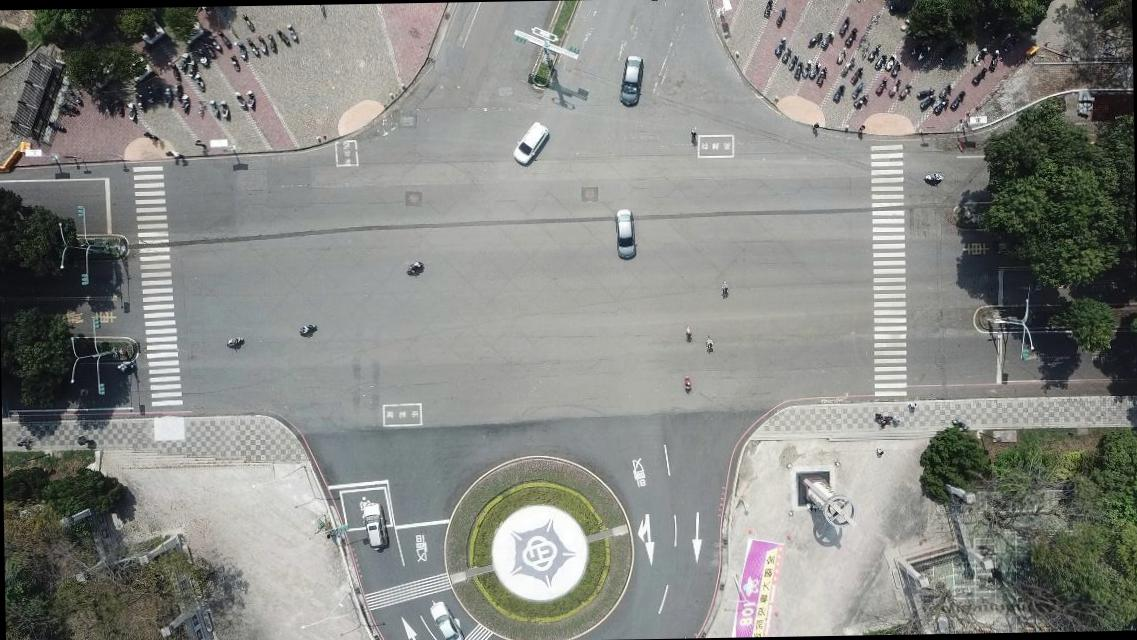vehicle: (512, 121, 550, 164), (618, 55, 645, 107), (429, 601, 465, 639), (360, 502, 388, 548), (615, 211, 637, 258)
